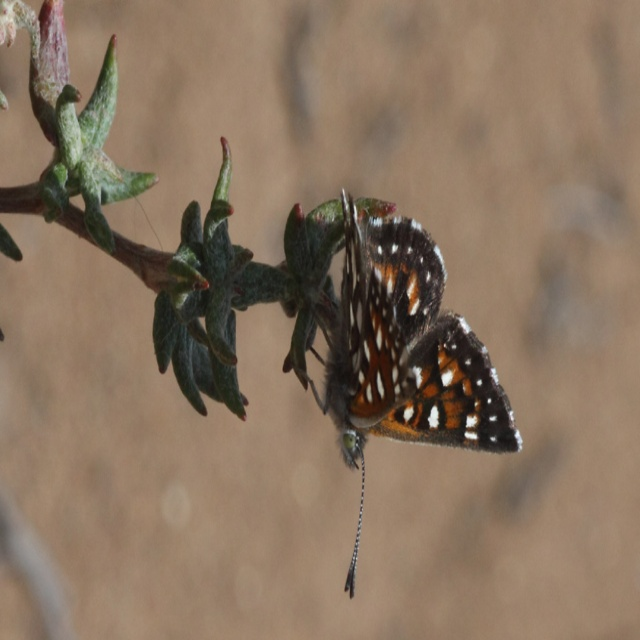Butterfly: (325, 192, 522, 597)
